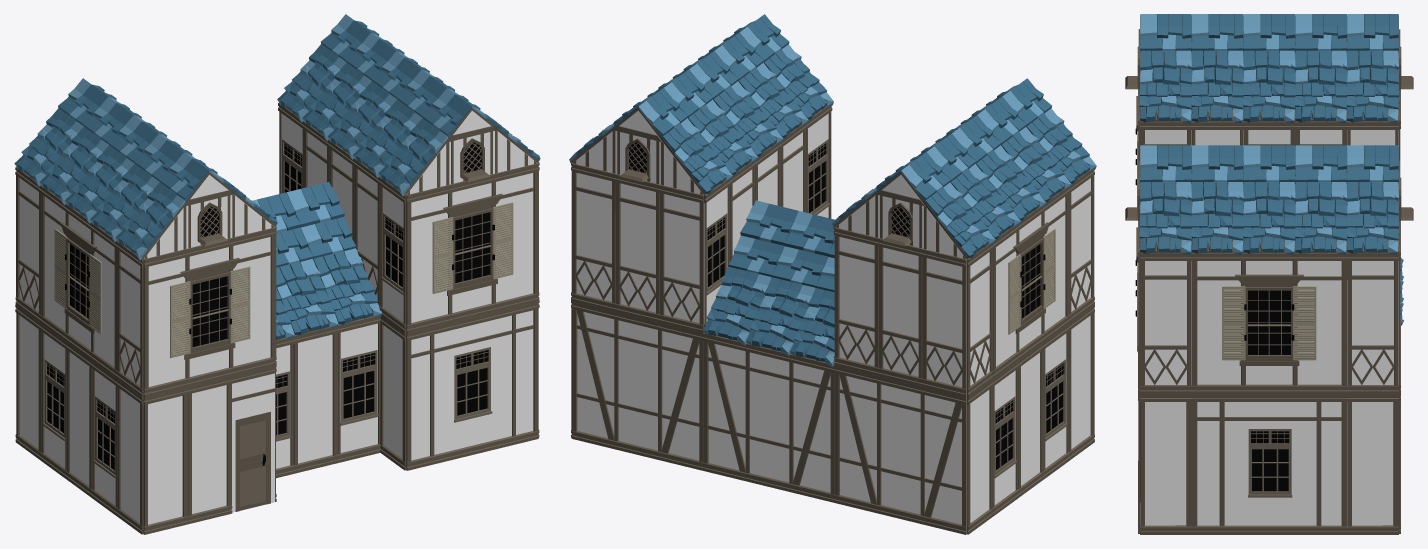
File: House_10_full.fbx
3 views of the same model, side by side, from view 1: azimuth 30°, elevation 25°; view 2: azimuth 150°, elevation 25°; view 3: azimuth 270°, elevation 25° (orthographic). The views are drawn at different scales.
Visible parts, largest first — view 1: WINDOW_07_6, WINDOW_07_3, WINDOW_03_2, WINDOW_07_4, WALL_03_4, WALL_03_9, WALL_03_3, WINDOW_04_6, DOOR_01_3, WALL_01_1, WALL_03_5, WINDOW_04_9 (+45 smaller); view 2: WALL_02_3, WALL_02_2, WALL_02_4, WINDOW_07_4, WALL_01_4, WALL_01_5, WALL_01_16, WALL_01_3, WALL_01_10, WALL_01_15, WALL_03_7, WALL_03_5 (+45 smaller); view 3: WINDOW_07_5, WINDOW_03_3, WALL_01_9, WALL_01_11, WALL_03_11, WALL_03_12, ROOF_base_5, ROOF_base_15, ROOF_base_4, ROOF_base_3, ROOF_base_7, ROOF_base_6 (+21 smaller).
Boxes of the visible parts, bbox=[...] form: WINDOW_07_6: bbox=[406, 163, 538, 333]; WINDOW_07_3: bbox=[143, 227, 275, 397]; WINDOW_03_2: bbox=[406, 301, 538, 470]; WINDOW_07_4: bbox=[40, 185, 117, 378]; WALL_03_4: bbox=[143, 387, 188, 534]; WALL_03_9: bbox=[293, 327, 338, 473]; WALL_03_3: bbox=[188, 376, 232, 524]; WINDOW_04_6: bbox=[337, 316, 380, 462]; DOOR_01_3: bbox=[231, 365, 275, 512]; WALL_01_1: bbox=[116, 241, 143, 396]; WALL_03_5: bbox=[116, 379, 143, 534]; WINDOW_04_9: bbox=[379, 177, 406, 332]; WALL_02_3: bbox=[703, 332, 834, 502]; WALL_02_2: bbox=[834, 365, 966, 534]; WALL_02_4: bbox=[571, 301, 703, 470]; WINDOW_07_4: bbox=[993, 188, 1069, 378]; WALL_01_4: bbox=[922, 248, 966, 397]; WALL_01_5: bbox=[834, 227, 878, 375]; WALL_01_16: bbox=[659, 184, 703, 333]; WALL_01_3: bbox=[878, 238, 922, 386]; WALL_01_10: bbox=[571, 163, 615, 311]; WALL_01_15: bbox=[615, 174, 659, 322]; WALL_03_7: bbox=[966, 379, 993, 534]; WALL_03_5: bbox=[1068, 305, 1094, 460]; WINDOW_07_5: bbox=[1192, 252, 1346, 394]; WINDOW_03_3: bbox=[1192, 394, 1346, 534]; WALL_01_9: bbox=[1347, 252, 1398, 394]; WALL_01_11: bbox=[1140, 252, 1191, 394]; WALL_03_11: bbox=[1140, 394, 1191, 534]; WALL_03_12: bbox=[1347, 394, 1398, 534]; ROOF_base_5: bbox=[1243, 50, 1295, 123]; ROOF_base_15: bbox=[1243, 181, 1295, 255]; ROOF_base_4: bbox=[1191, 49, 1243, 123]; ROOF_base_3: bbox=[1139, 50, 1191, 123]; ROOF_base_7: bbox=[1346, 50, 1398, 123]; ROOF_base_6: bbox=[1295, 50, 1347, 123].
Size of the model in its own units: 920 by 759 by 556.
